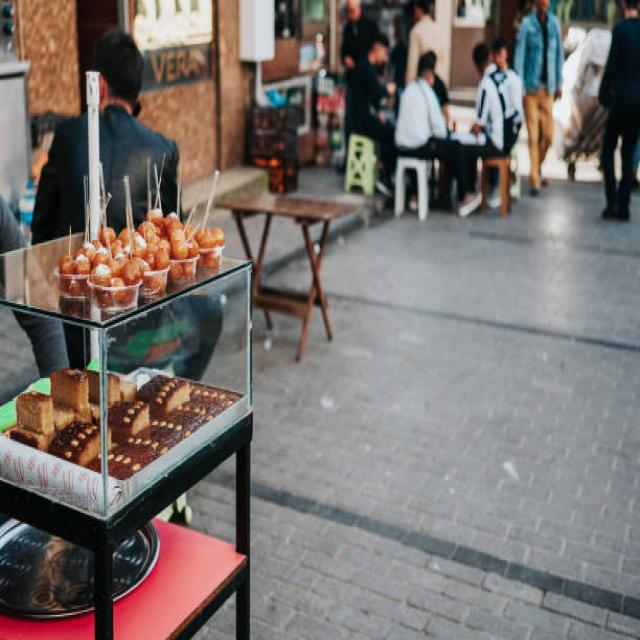Emperan: (0, 44, 322, 640)
